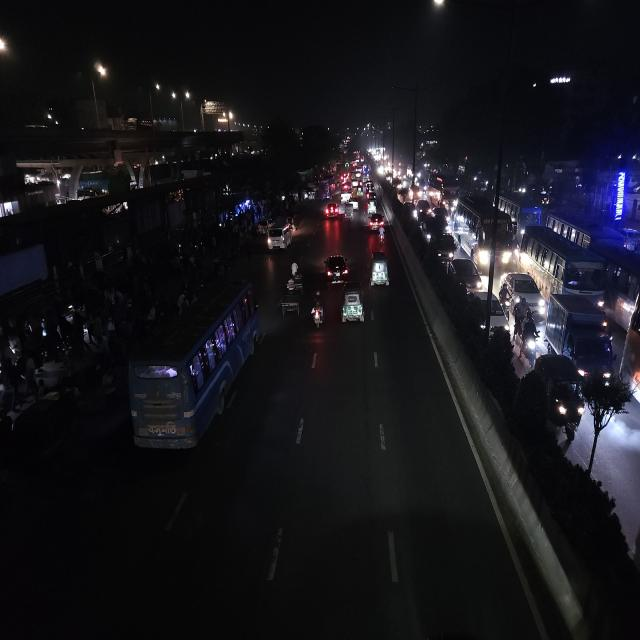bus: (124, 277, 260, 464), (523, 230, 607, 302), (456, 197, 516, 268), (503, 193, 539, 235), (430, 174, 459, 205), (318, 172, 336, 197)
car: (463, 291, 511, 339), (501, 270, 547, 314), (444, 256, 484, 294), (266, 218, 294, 253), (323, 251, 349, 284), (368, 210, 386, 232), (324, 198, 340, 221), (349, 197, 359, 214)
cng: (546, 352, 588, 440), (341, 280, 365, 327), (368, 247, 391, 290), (343, 202, 354, 224), (367, 199, 378, 213)
motorcycle: (520, 313, 540, 356), (310, 288, 326, 332), (378, 224, 387, 247)
pickup_van: (435, 233, 457, 264)
rickshaw: (278, 288, 302, 317)
truck: (546, 292, 614, 374)
